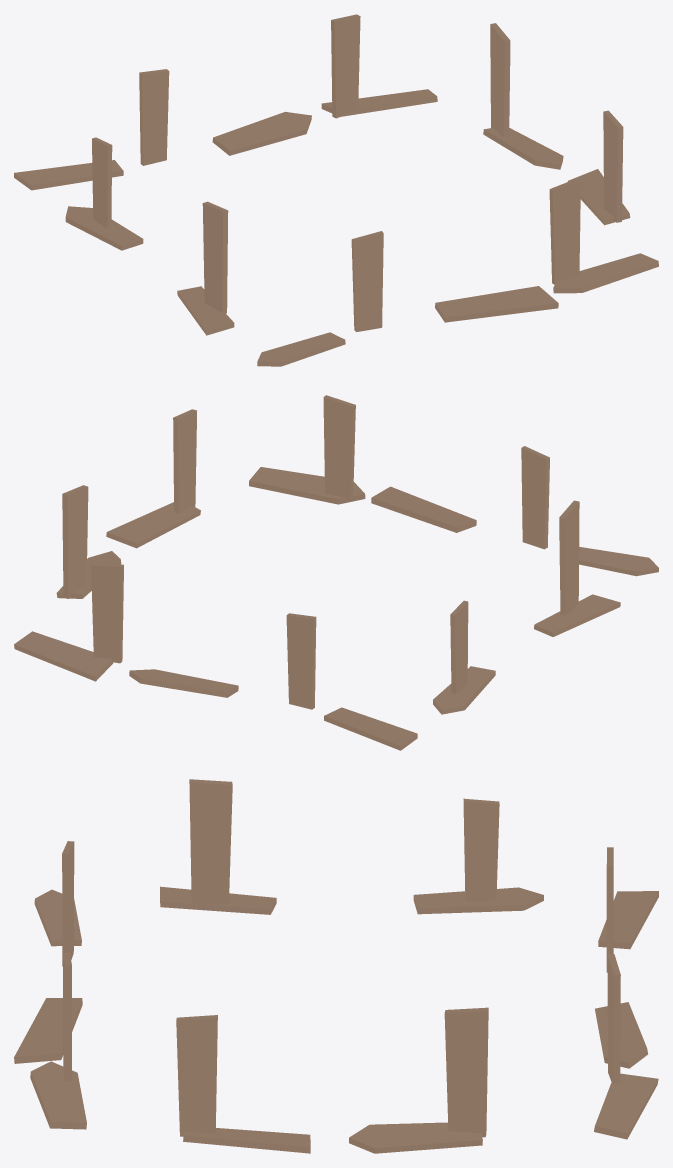
File: pigifarm1.fbx
3 renders of one model, top to bottom at view 1: azimuth 30°, elevation 25°; view 2: azimuth 150°, elevation 25°; view 3: azimuth 270°, elevation 25°, orthographic. The views are drawn at different scales.
Visible parts, largest first — view 1: farm1; view 2: farm1; view 3: farm1.
Boxes of the visible parts, box(x1,y1,x2,y2) form: farm1: box(14, 14, 658, 366); farm1: box(14, 395, 658, 750); farm1: box(14, 779, 658, 1153).
Bounding box in the file's own units: 465 × 110 × 473.
